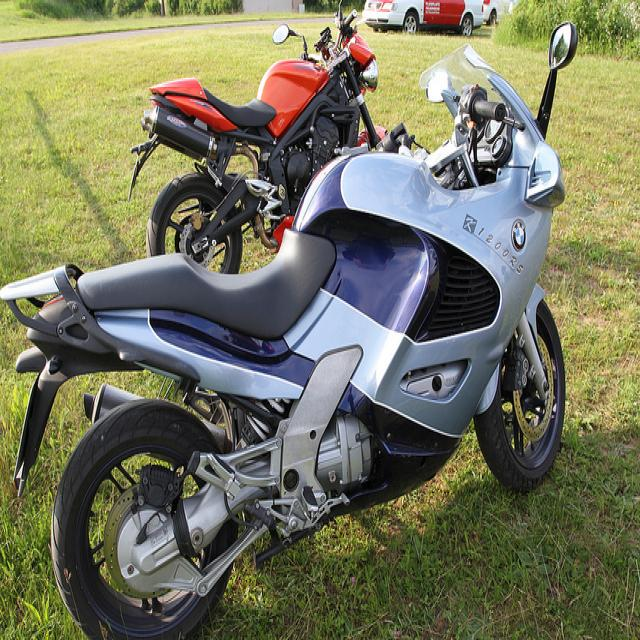motor: (1, 22, 577, 627), (129, 7, 386, 263)
